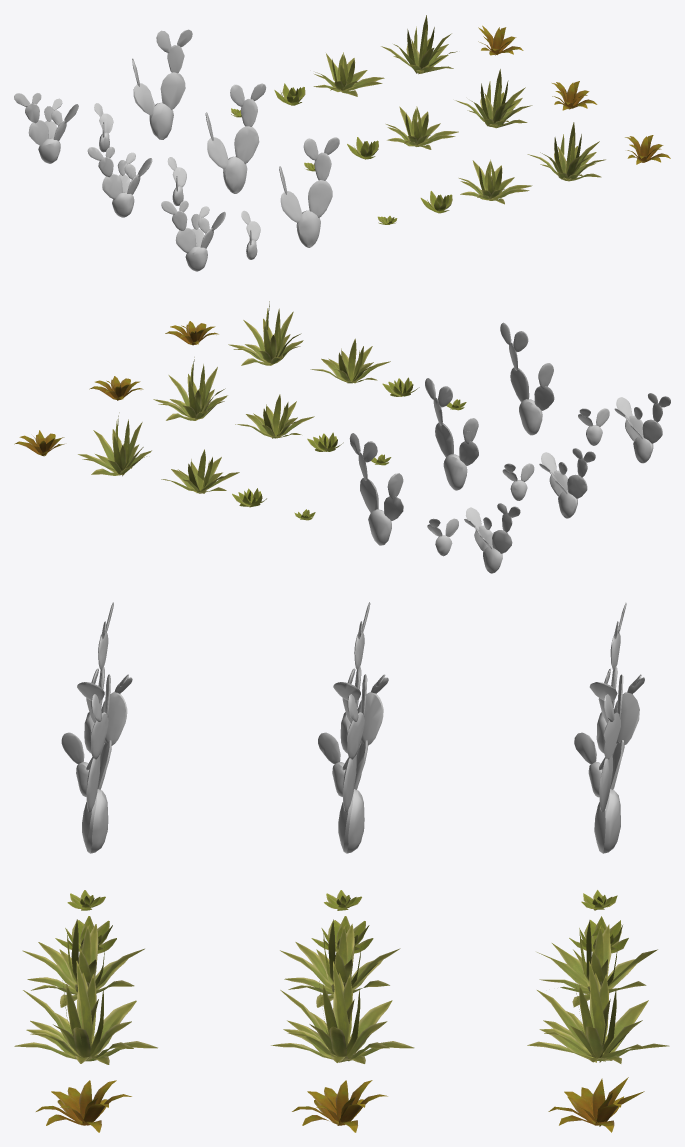
File: Desert_Plants_A1.fbx
The picture shows the model from 3 angles, top to bottom: view 1: azimuth 30°, elevation 25°; view 2: azimuth 150°, elevation 25°; view 3: azimuth 270°, elevation 25°; orthographic projection. The views are drawn at different scales.
Visible parts, largest first — view 1: Cactus_A3, Cactus_A3.001, Cactus_A3.002, Cactus_A1.001, Cactus_A1, Cactus_A1.002, Desert_Plant_A4.001, Desert_Plant_A4, Desert_Plant_A4.002, Desert_Plant_A3, Desert_Plant_A3.001, Desert_Plant_A3.002 (+9 smaller); view 2: Cactus_A3, Cactus_A3.001, Cactus_A3.002, Cactus_A1.001, Cactus_A1, Cactus_A1.002, Desert_Plant_A4, Desert_Plant_A4.001, Desert_Plant_A4.002, Desert_Plant_A3, Desert_Plant_A3.001, Desert_Plant_A3.002 (+7 smaller); view 3: Desert_Plant_A4, Desert_Plant_A4.002, Desert_Plant_A4.001, Cactus_A3.001, Cactus_A3, Cactus_A3.002, Desert_Plant_A3, Desert_Plant_A3.001, Desert_Plant_A3.002, Desert_Plant_A5, Desert_Plant_A5.002, Desert_Plant_A5.001 (+9 smaller).
Boxes of the visible parts, x1,y1,x2,y2 form: Cactus_A3: [279, 137, 339, 247]; Cactus_A3.001: [205, 83, 266, 193]; Cactus_A3.002: [132, 29, 192, 139]; Cactus_A1.001: [87, 146, 152, 217]; Cactus_A1: [161, 200, 225, 271]; Cactus_A1.002: [14, 93, 78, 163]; Desert_Plant_A4.001: [455, 69, 532, 128]; Desert_Plant_A4: [527, 122, 605, 181]; Desert_Plant_A4.002: [381, 15, 457, 74]; Desert_Plant_A3: [459, 159, 532, 204]; Desert_Plant_A3.001: [386, 106, 458, 149]; Desert_Plant_A3.002: [313, 52, 384, 96]; Cactus_A3: [500, 322, 554, 435]; Cactus_A3.001: [425, 378, 478, 490]; Cactus_A3.002: [349, 433, 403, 545]; Cactus_A1.001: [539, 448, 595, 518]; Cactus_A1: [614, 393, 670, 463]; Cactus_A1.002: [464, 503, 520, 573]; Desert_Plant_A4: [228, 301, 303, 365]; Desert_Plant_A4.001: [153, 357, 227, 420]; Desert_Plant_A4.002: [78, 412, 151, 476]; Desert_Plant_A3: [310, 338, 390, 383]; Desert_Plant_A3.001: [235, 394, 314, 438]; Desert_Plant_A3.002: [161, 449, 239, 493]; Desert_Plant_A4: [14, 961, 157, 1064]; Desert_Plant_A4.002: [527, 961, 669, 1063]; Desert_Plant_A4.001: [271, 961, 414, 1063]; Cactus_A3.001: [338, 674, 383, 853]; Cactus_A3: [82, 674, 127, 853]; Cactus_A3.002: [594, 674, 639, 853]; Desert_Plant_A3: [22, 919, 144, 1007]; Desert_Plant_A3.001: [280, 919, 400, 1007]; Desert_Plant_A3.002: [537, 920, 657, 1007]; Desert_Plant_A5: [36, 1080, 131, 1132]; Desert_Plant_A5.002: [548, 1077, 644, 1132]; Desert_Plant_A5.001: [292, 1080, 387, 1132].
Size of the model in its own units: 1957 by 392 by 1282.
